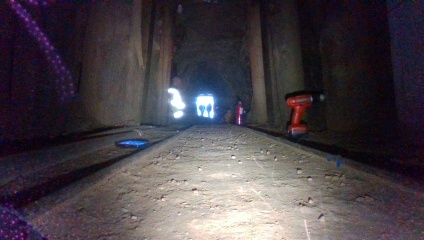cellphone: (116, 136, 150, 149)
drill: (284, 92, 329, 140)
fire_extinguisher: (234, 98, 246, 126)
manikin: (166, 76, 196, 128)
